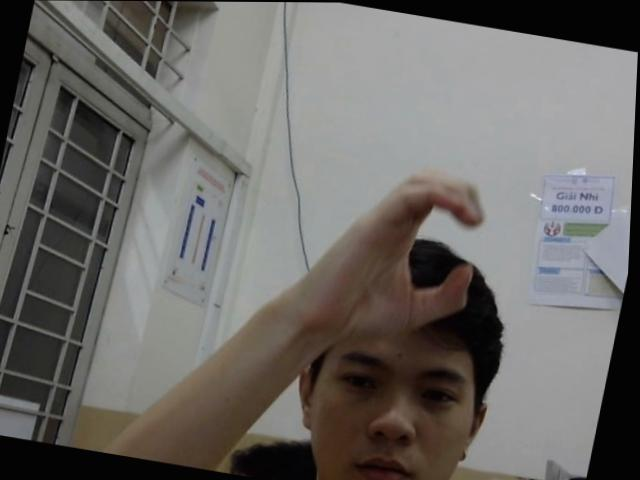C: (288, 146, 495, 360)
